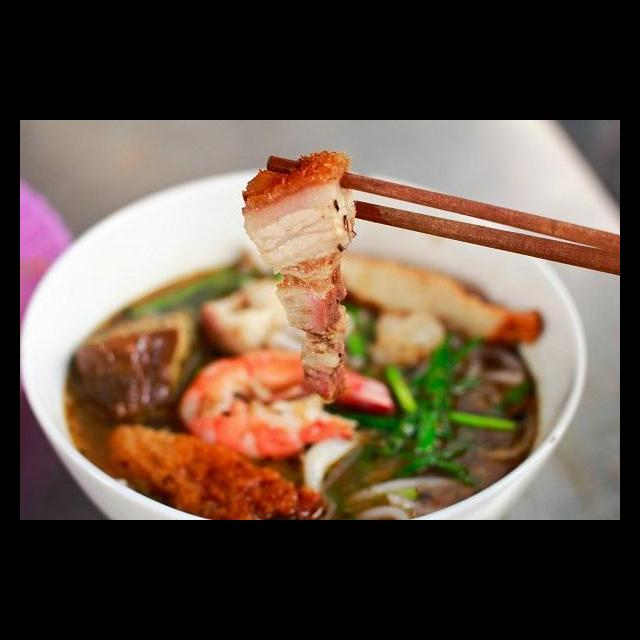thit heo quay: (236, 147, 369, 408)
tom: (174, 343, 404, 465)
